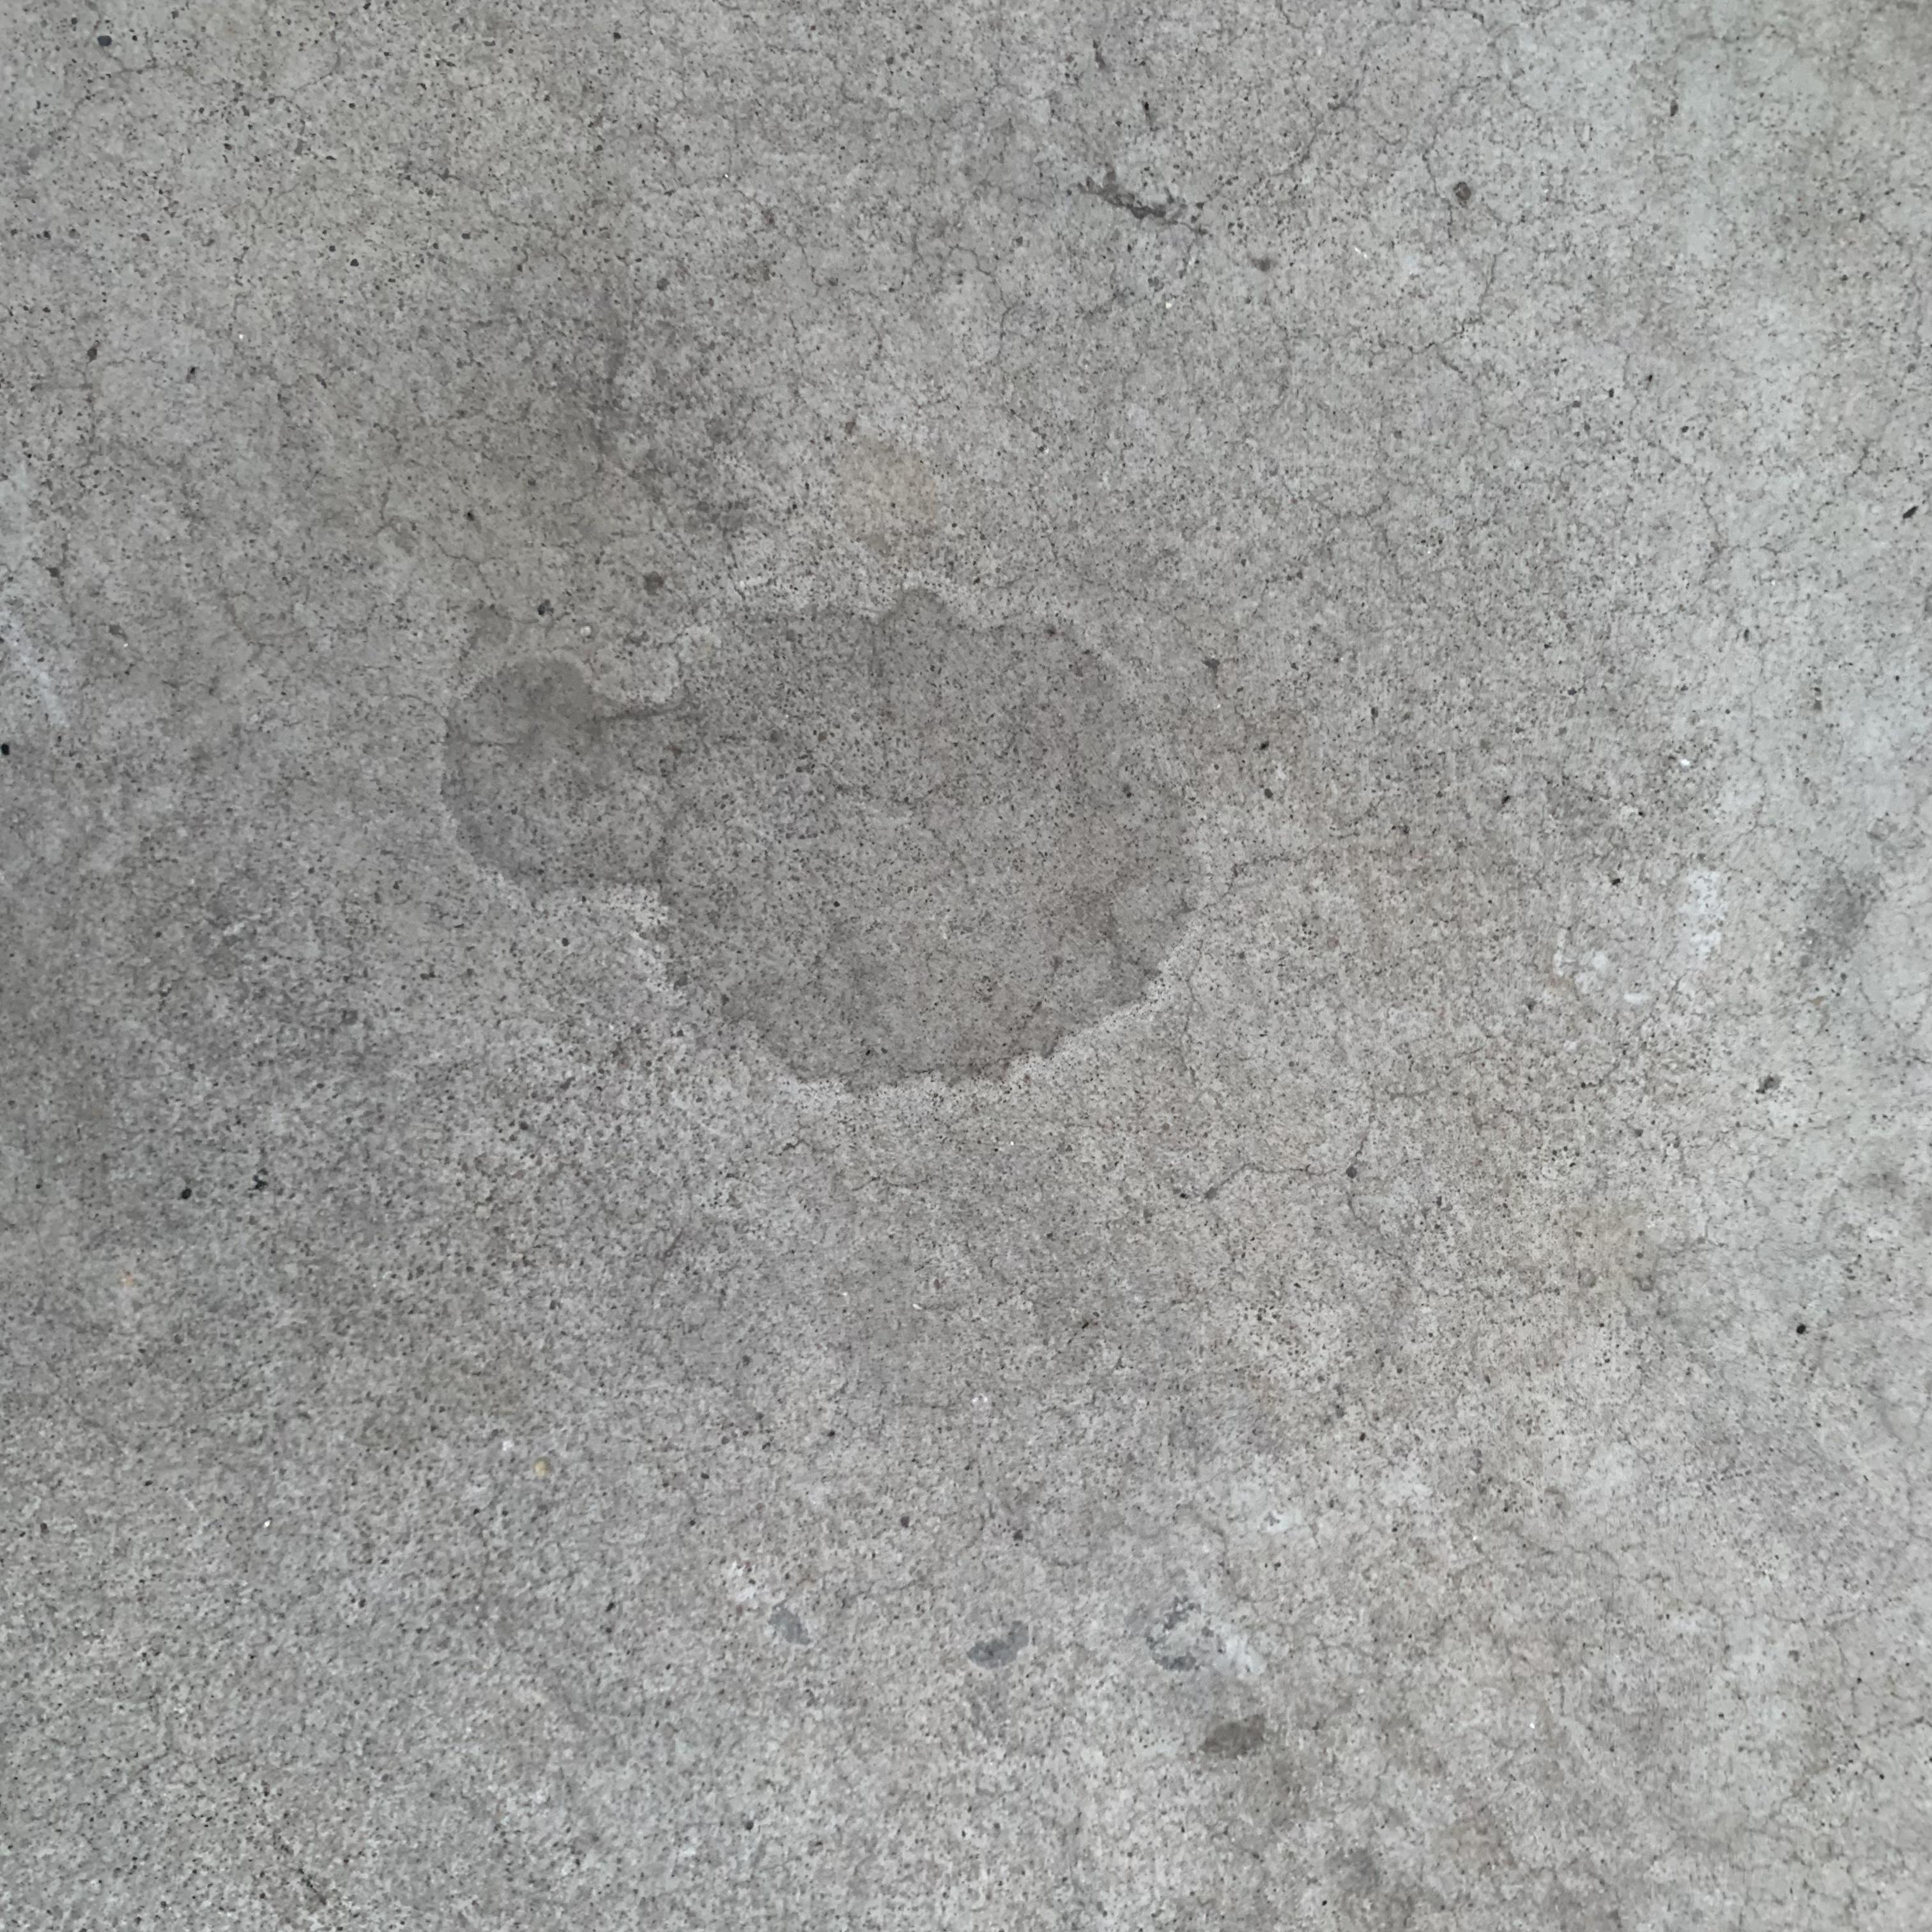grey spot: (435, 589, 1208, 1085)
